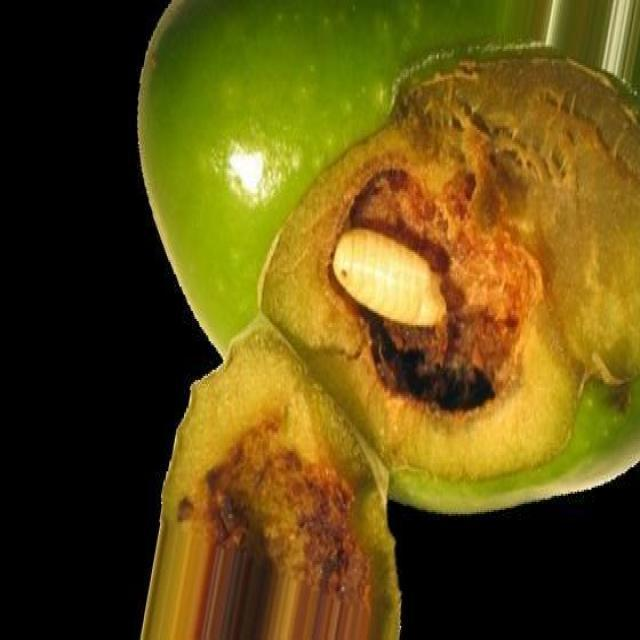Anthracnose: (140, 0, 639, 513)
